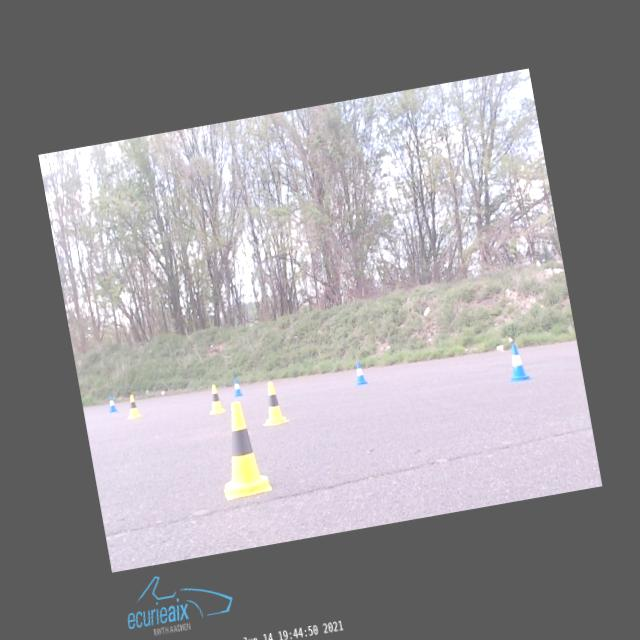blue_cone: (504, 342, 531, 383), (352, 359, 367, 385), (230, 376, 243, 396), (106, 394, 117, 412)
yellow_cone: (209, 398, 272, 500), (256, 380, 288, 426), (204, 383, 226, 414), (124, 393, 140, 418)
